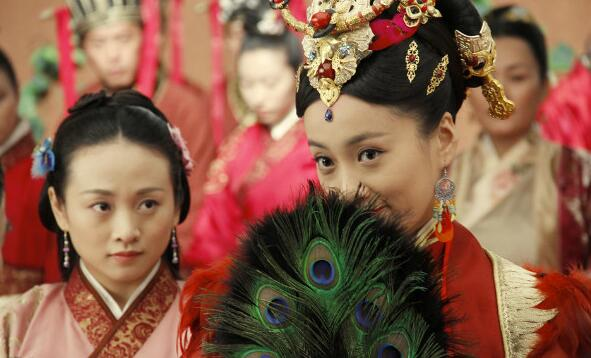face: (304, 91, 420, 232), (69, 151, 169, 280), (466, 37, 540, 132), (87, 20, 145, 88), (240, 55, 295, 125)
